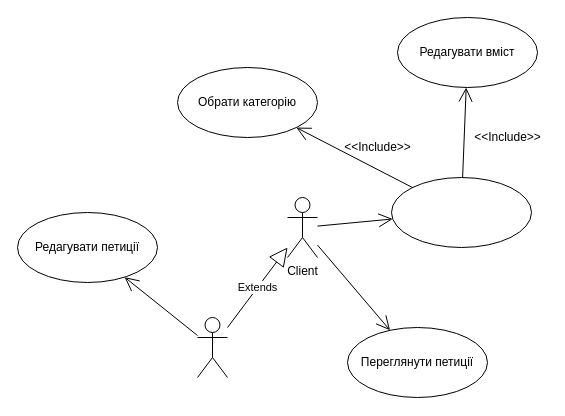
Image size: 565x416. Some labels were removed from this diagram. The centre of each missing label's shape, as x and y in pixels:
Moderator: pixel 212 347
Створити петицію: pixel 461 212
